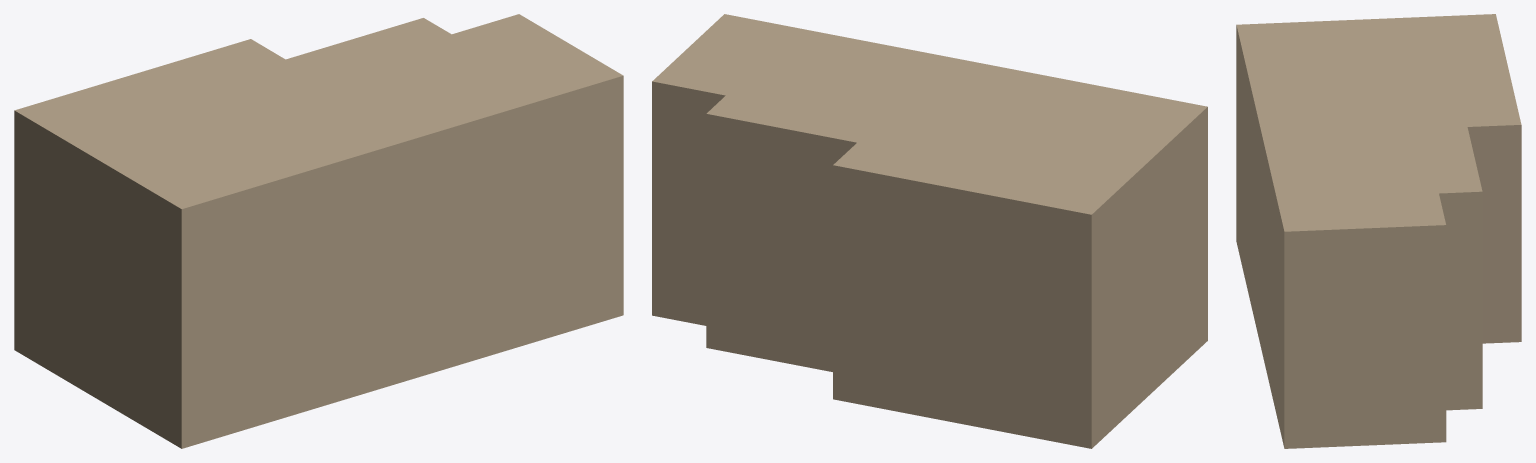
File: bld_158045232.dae
3 renders of one model, left to right at view 1: azimuth 30°, elevation 25°; view 2: azimuth 150°, elevation 25°; view 3: azimuth 270°, elevation 25°, orthographic. The views are drawn at different scales.
Parts seen in each view (by area): view 1: bld_158045232; view 2: bld_158045232; view 3: bld_158045232.
Part boxes in pixels (box(x1,y1,x2,y2)): bld_158045232: box(14, 14, 623, 448); bld_158045232: box(652, 14, 1207, 448); bld_158045232: box(1236, 14, 1521, 448).
Bounding box in the file's own units: 17.2 × 9.51 × 8.
